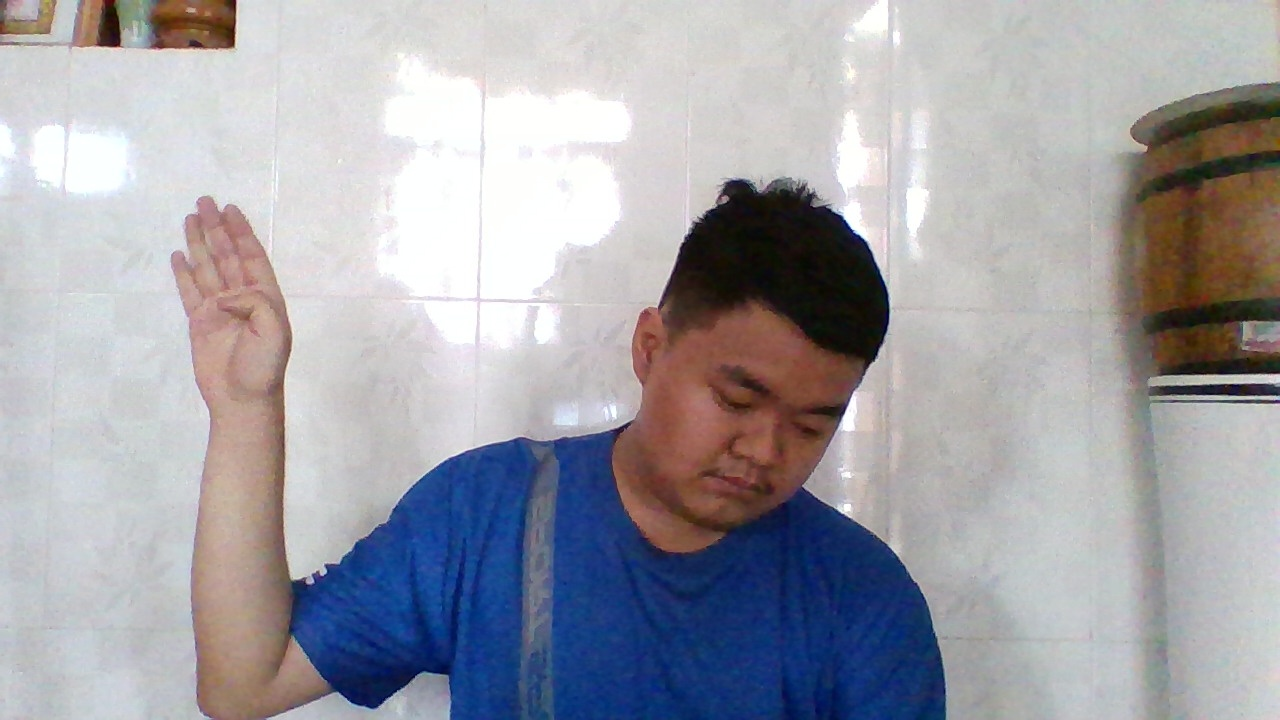B: (160, 187, 296, 421)
